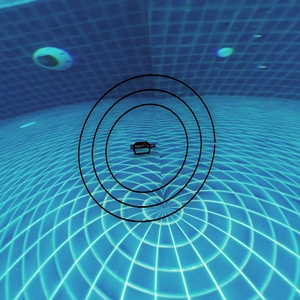circle: (73, 72, 220, 228)
submarine: (131, 136, 157, 154)
